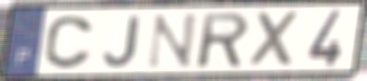4: (306, 9, 344, 69)
C: (42, 14, 96, 71)
J: (102, 14, 142, 69)
N: (144, 11, 200, 71)
R: (197, 10, 252, 70)
X: (248, 9, 304, 70)
